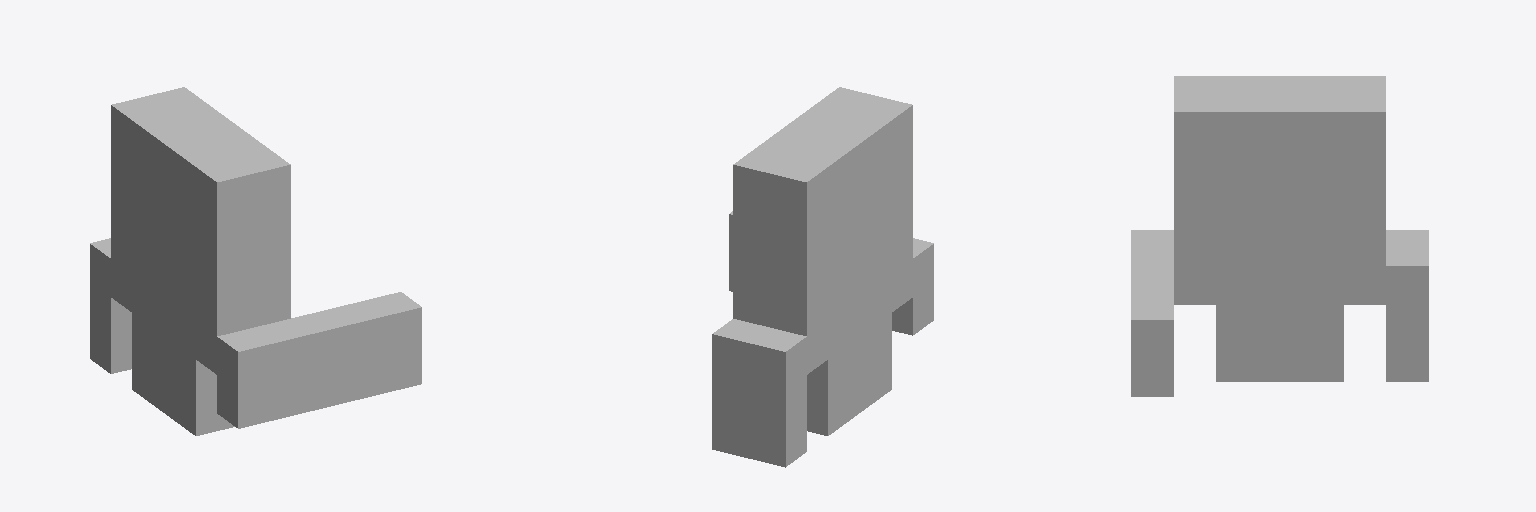
File: player_torso_s-04.obj
3 renders of one model, left to right at view 1: azimuth 30°, elevation 25°; view 2: azimuth 150°, elevation 25°; view 3: azimuth 270°, elevation 25°, orthographic.
Bounding box in the file's own units: 5 × 7 × 7.